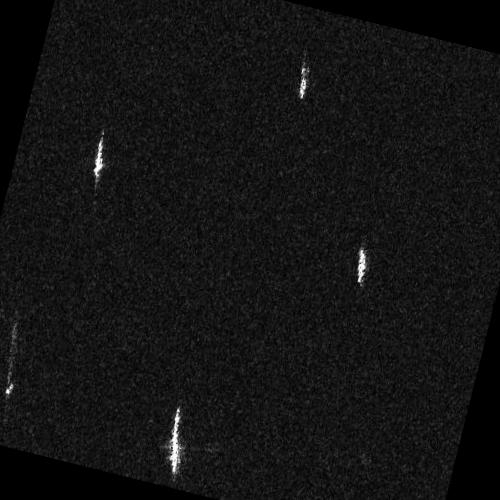ship: (168, 407, 181, 476), (5, 326, 17, 397), (91, 134, 104, 183), (356, 246, 367, 287), (298, 64, 310, 101)
